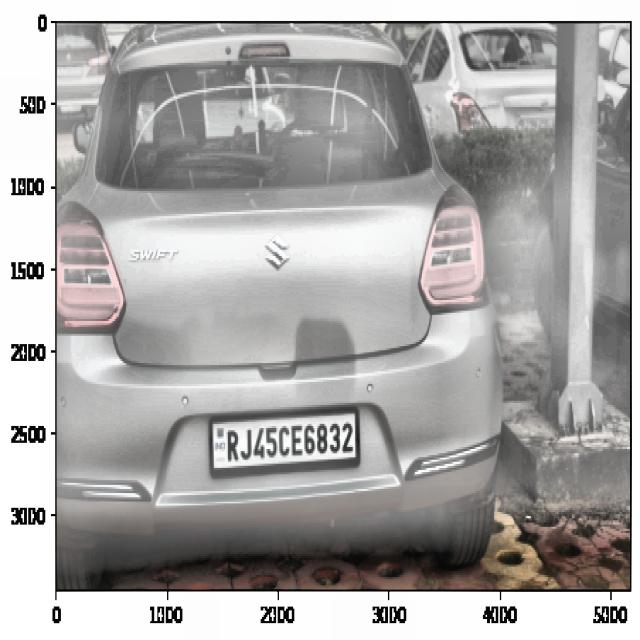license_plate: (220, 417, 360, 466)
